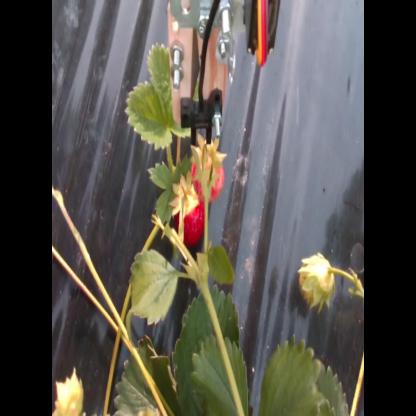ripe: (170, 181, 208, 249), (191, 142, 225, 202)
unripe: (298, 247, 336, 313)
